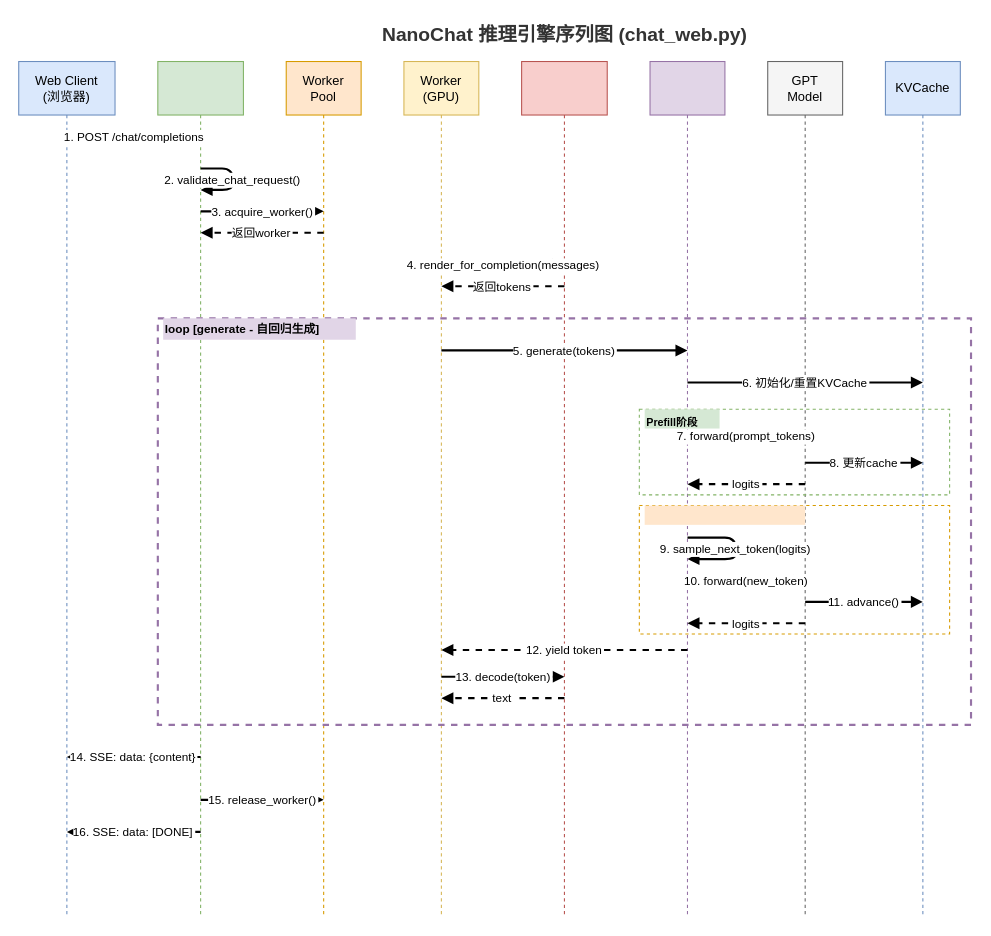
This 991x936 diagram has some shape labels left out. The shapes that lost their labels are listed below. From the top down, each one's box as (x1, y1, x2, y2) in pixels, then its label:
(157, 60, 243, 918): FastAPI Server
(521, 60, 607, 918): Tokenizer
(649, 60, 725, 918): Engine
(644, 505, 805, 524): loop [Decode - 逐token生成]
